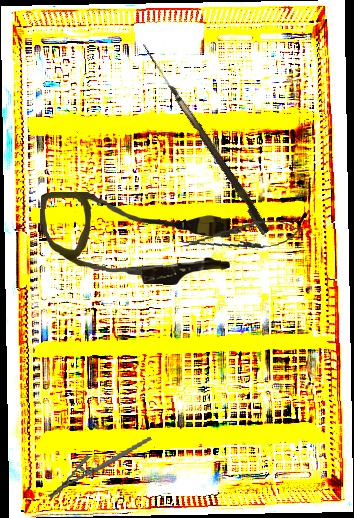Cannula: (39, 191, 231, 286)
Hook Surgical: (133, 43, 274, 236)
Needle Holder: (41, 436, 159, 500), (180, 214, 304, 259)
